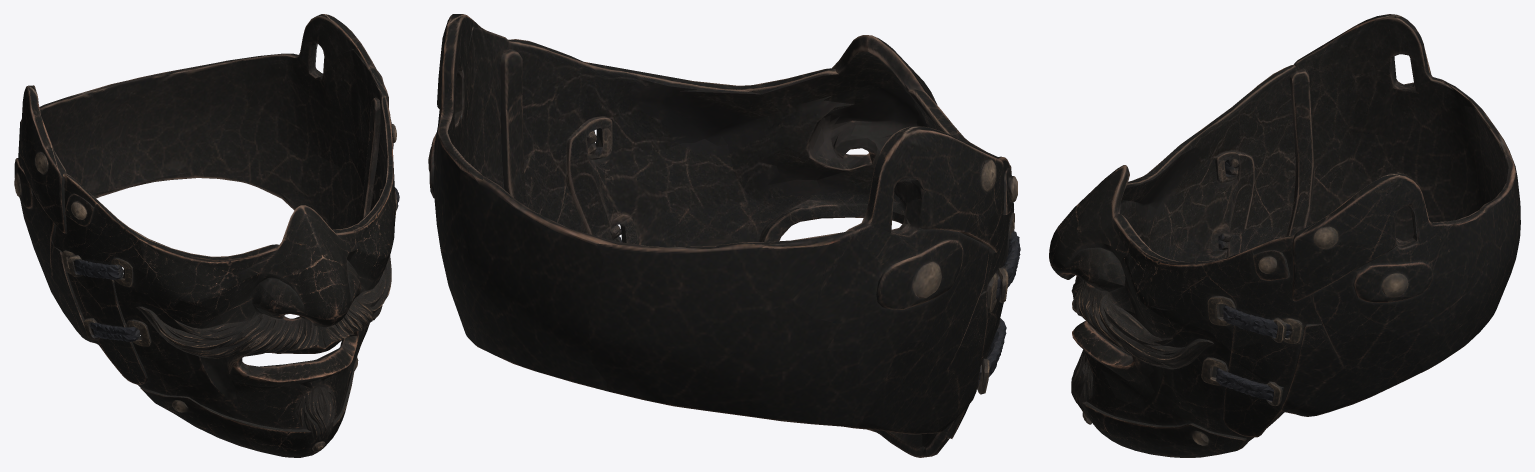
The model's file is acc_mempo_image.glb.
3 views of the same model, side by side, from view 1: azimuth 30°, elevation 25°; view 2: azimuth 150°, elevation 25°; view 3: azimuth 270°, elevation 25° (orthographic). The views are drawn at different scales.
Bounding box in the file's own units: 1.75 × 1.55 × 1.9.
Materials: 1 (1 with a texture image).
